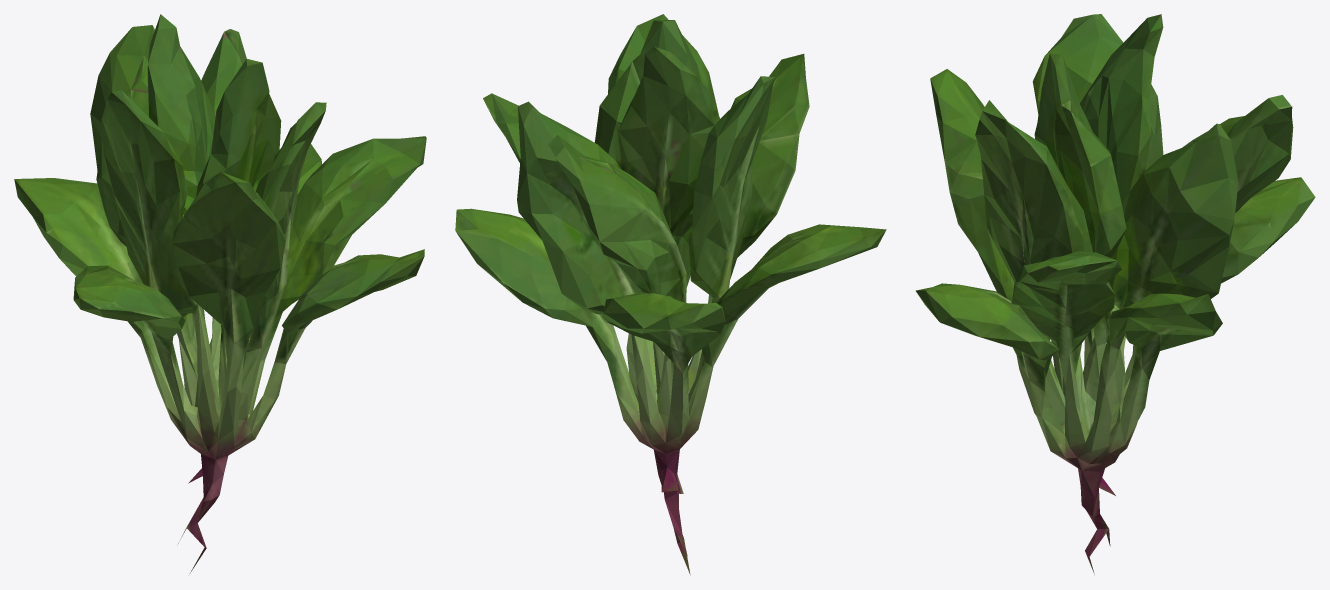
The model's file is P_Bocai_01.obj.
3 renders of one model, left to right at view 1: azimuth 30°, elevation 25°; view 2: azimuth 150°, elevation 25°; view 3: azimuth 270°, elevation 25°, orthographic. The views are drawn at different scales.
Size of the model in its own units: 0.4208 by 0.5846 by 0.3762.
Materials: 1 (1 with a texture image).
